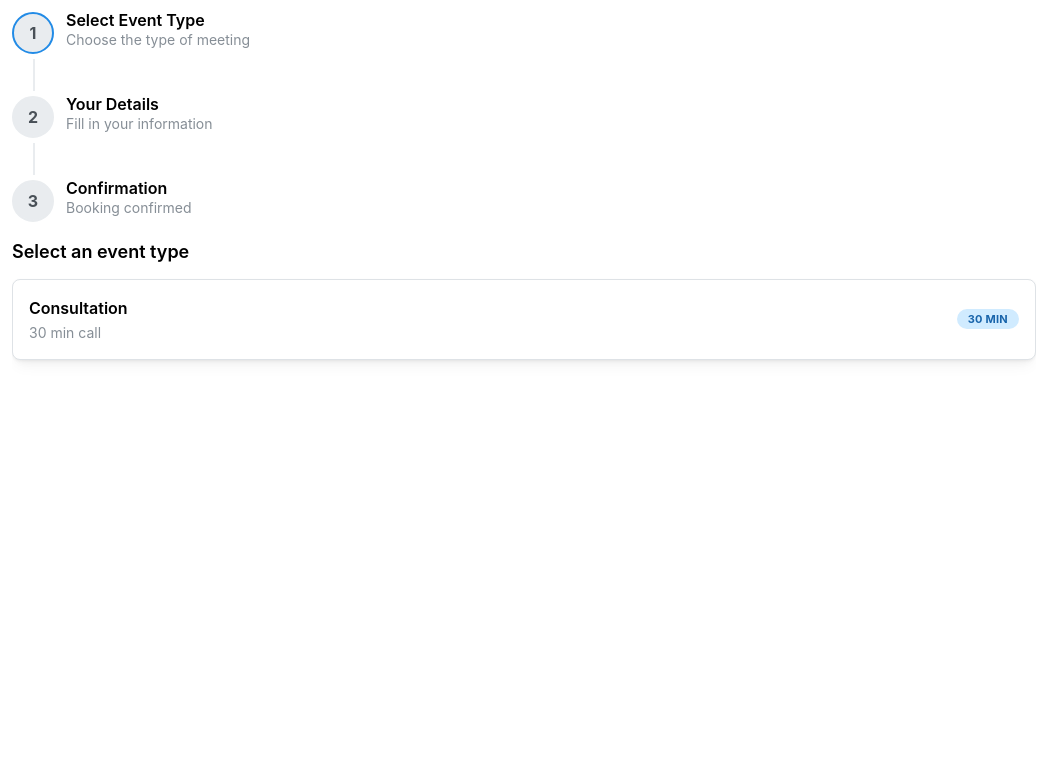
Test: BookingStepper › shows step 2 (guest details) when event type is selected
The image size is (1048, 780).
Click the text "Consultation": (78, 308) [29,296,128,321]
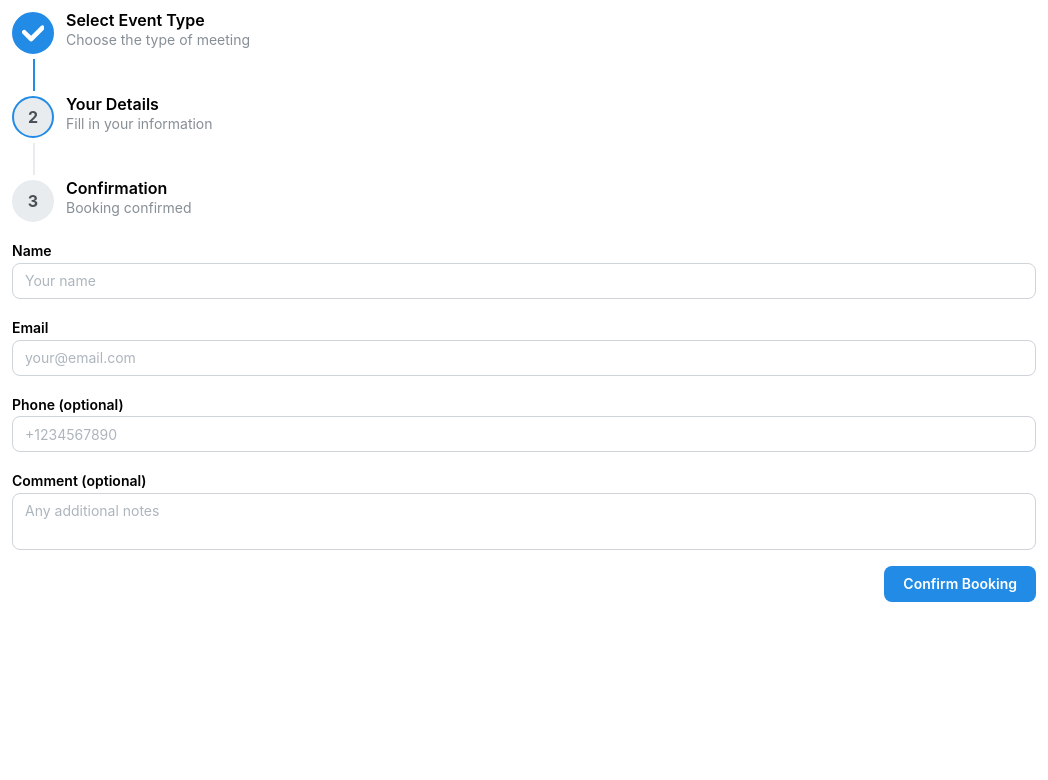
Result: the field labelled "Name" is shown at [12,263,1036,299]
